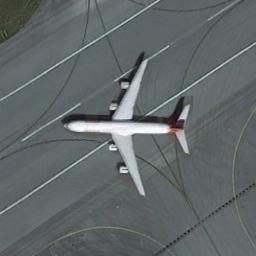Airplane: (61, 46, 193, 197)
